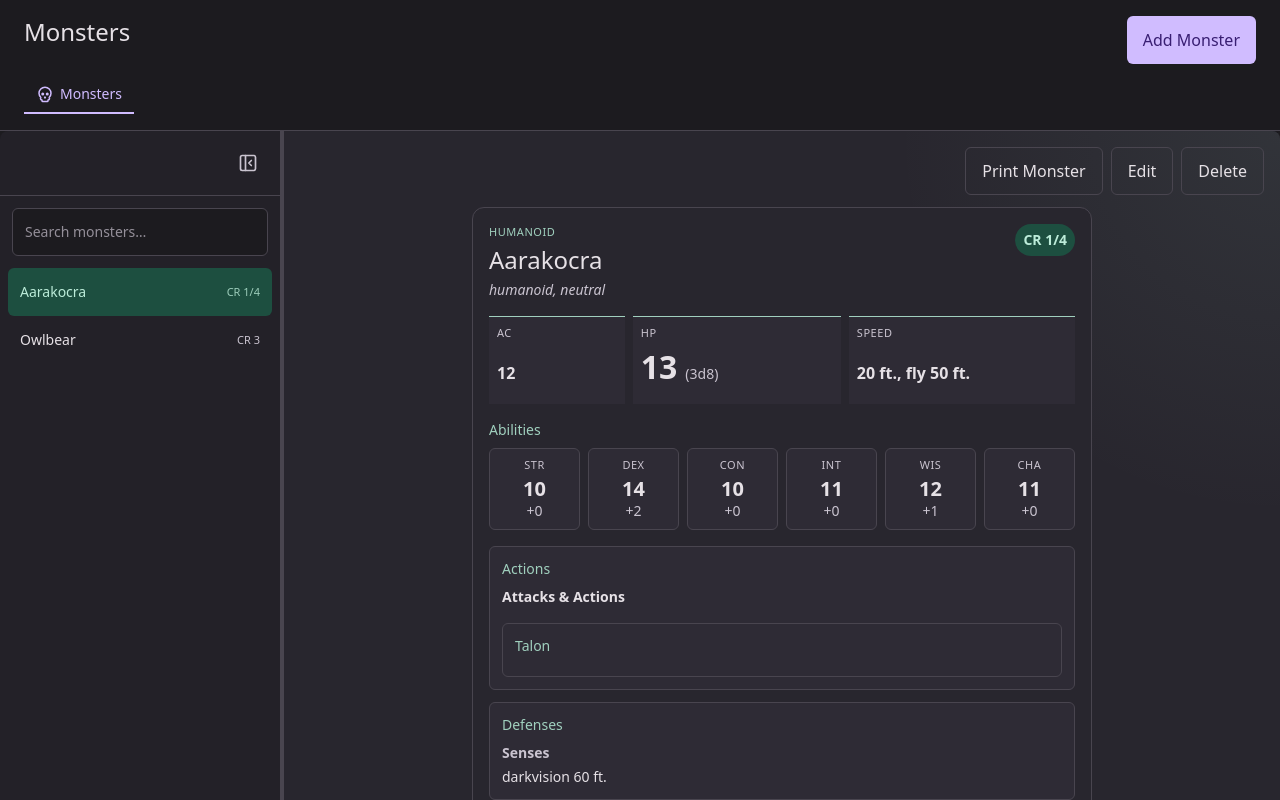
Test: Monster CRUD (M3) › deleteMonster confirms, deletes the selected monster, clears selection, and reloads
Expected: the heading "Aarakocra" is shown, [489,244,605,276]
Click the button "Delete". click: click(1223, 171)
box: [1181,147,1264,195]
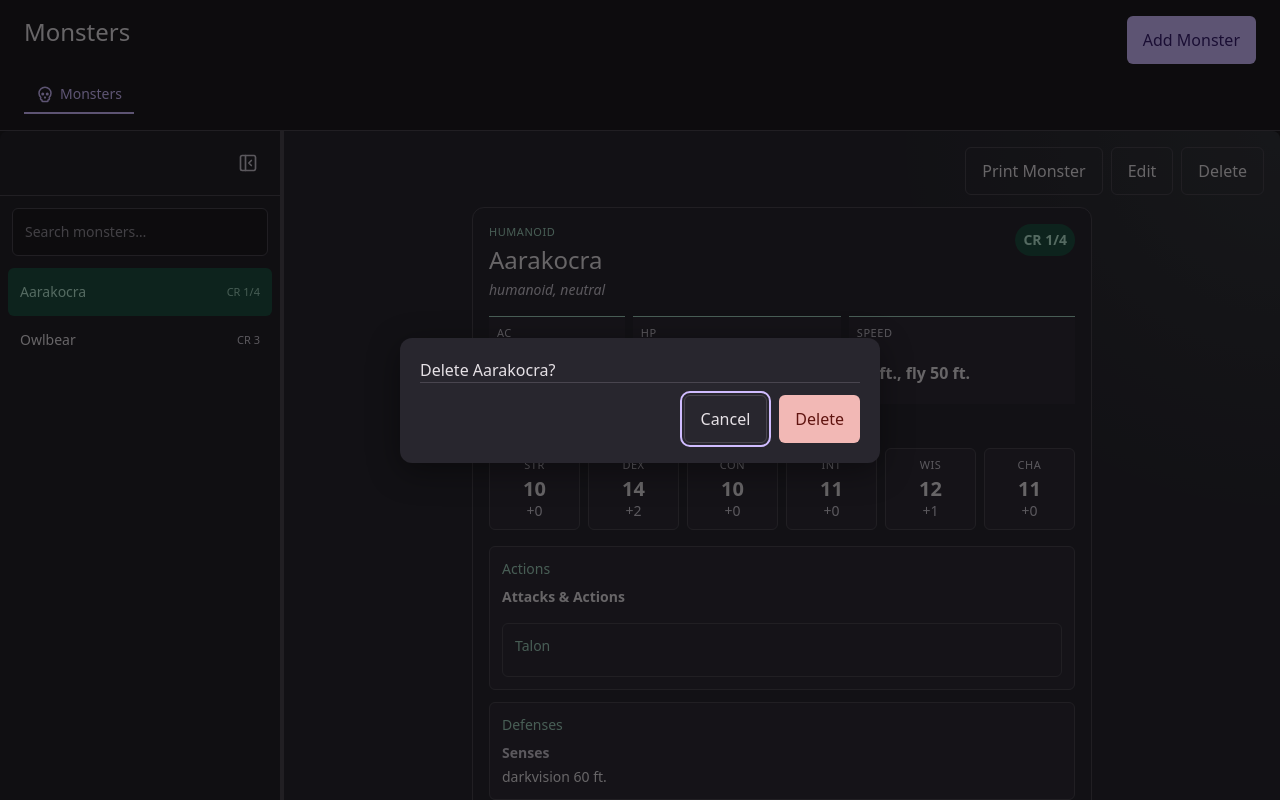
Result: the dialog is shown at [400,338,880,462]
Click the button "Delete". click: click(820, 418)
box: [779,394,860,442]
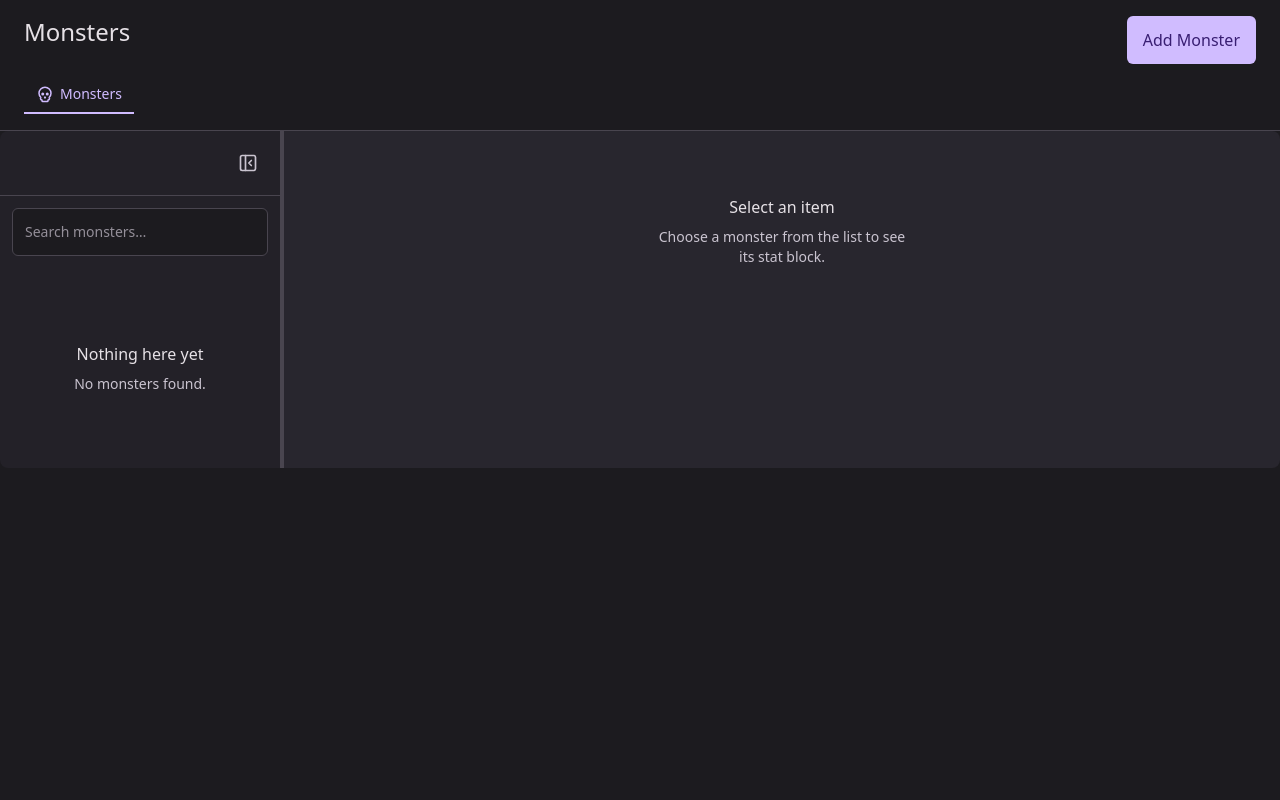
Result: the text "Choose a monster from the list to see its stat block." is shown at [654,227,910,267]
